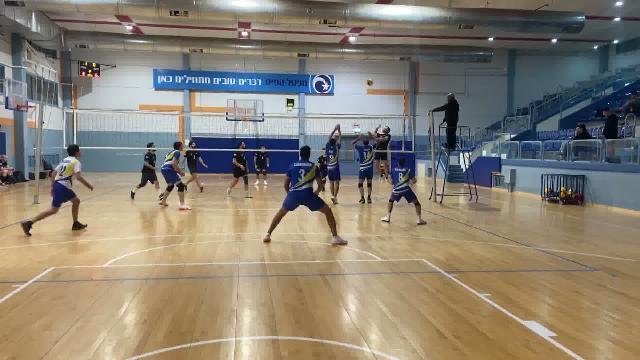ball: (364, 77, 375, 89)
